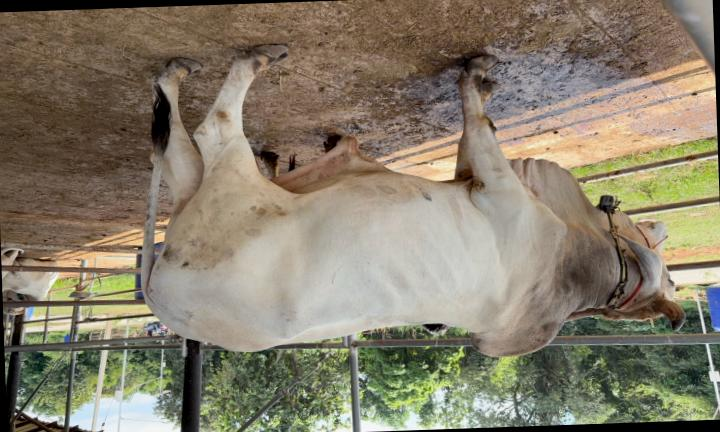Brahman: (142, 45, 684, 356)
